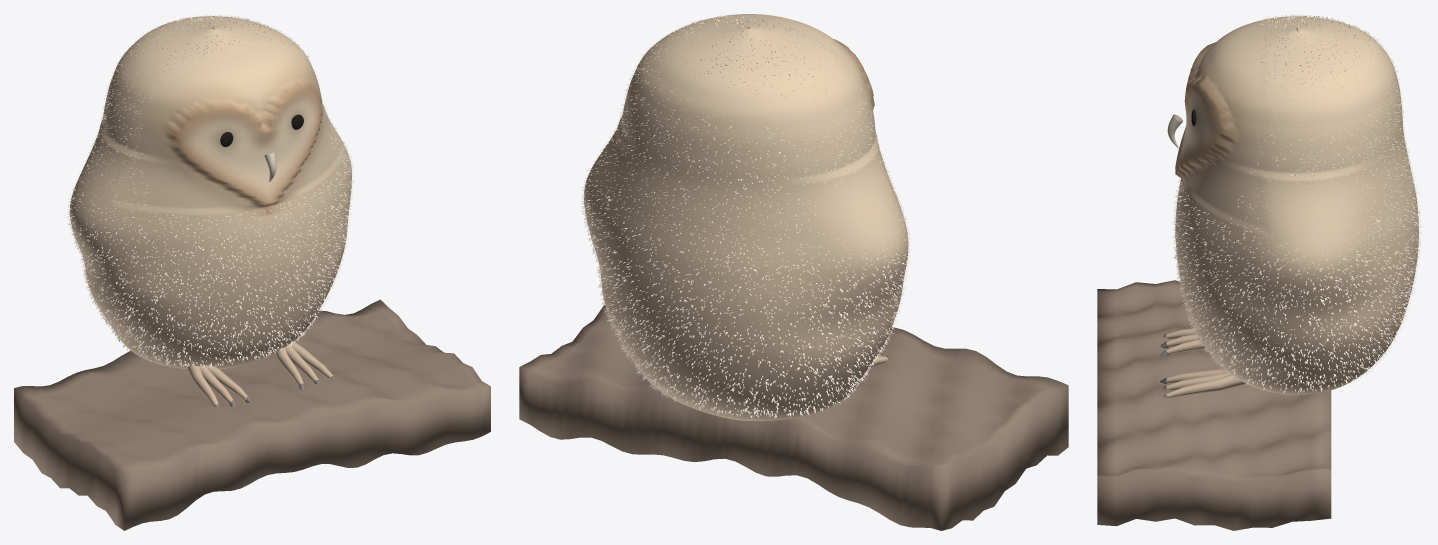
File: owl172_run86_organic_integrated_face_ART_PENDING.glb
The picture shows the model from 3 angles, left to right: view 1: azimuth 30°, elevation 25°; view 2: azimuth 150°, elevation 25°; view 3: azimuth 270°, elevation 25°; orthographic projection. The views are drawn at different scales.
Parts seen in each view (by area): view 1: one continuous organic juvenile loft, solid eroded mature eucalyptus hollow ledge, curved second-down filament batch 3, curved second-down filament batch 0, curved second-down filament batch 1, curved second-down filament batch 2, curved second-down filament batch 4; view 2: one continuous organic juvenile loft, solid eroded mature eucalyptus hollow ledge, curved second-down filament batch 1, curved second-down filament batch 4, curved second-down filament batch 0, curved second-down filament batch 2, curved second-down filament batch 3; view 3: one continuous organic juvenile loft, solid eroded mature eucalyptus hollow ledge, curved second-down filament batch 4, curved second-down filament batch 3, curved second-down filament batch 1, curved second-down filament batch 0, curved second-down filament batch 2, short juvenile toe 1_2, short juvenile toe 1_1.
Part boxes in pixels (x1,y1,x2,y2): one continuous organic juvenile loft: (69, 16, 351, 369); solid eroded mature eucalyptus hollow ledge: (14, 299, 490, 530); curved second-down filament batch 3: (67, 15, 354, 365); curved second-down filament batch 0: (67, 14, 354, 367); curved second-down filament batch 1: (68, 14, 355, 366); curved second-down filament batch 2: (67, 14, 354, 367); curved second-down filament batch 4: (69, 15, 355, 367); one continuous organic juvenile loft: (584, 14, 908, 420); solid eroded mature eucalyptus hollow ledge: (519, 305, 1068, 530); curved second-down filament batch 1: (581, 15, 910, 418); curved second-down filament batch 4: (582, 17, 911, 418); curved second-down filament batch 0: (580, 17, 910, 416); curved second-down filament batch 2: (581, 15, 910, 418); curved second-down filament batch 3: (580, 15, 911, 416); one continuous organic juvenile loft: (1175, 16, 1418, 394); solid eroded mature eucalyptus hollow ledge: (1097, 280, 1331, 530); curved second-down filament batch 4: (1172, 14, 1421, 393); curved second-down filament batch 3: (1173, 14, 1421, 391); curved second-down filament batch 1: (1173, 14, 1421, 392); curved second-down filament batch 0: (1172, 14, 1422, 393); curved second-down filament batch 2: (1174, 14, 1421, 390); short juvenile toe 1_2: (1166, 374, 1245, 397); short juvenile toe 1_1: (1166, 372, 1230, 390).
Size of the model in its own units: 2.24 by 2.3 by 1.63.
